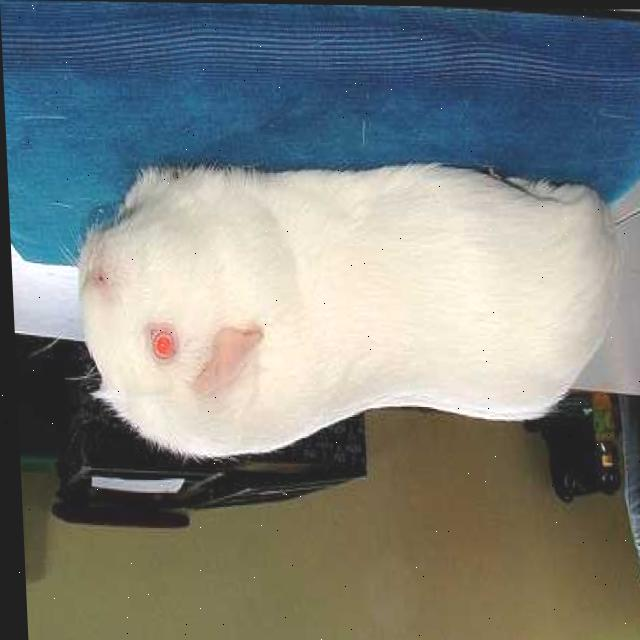guinea pig: (73, 171, 616, 464)
